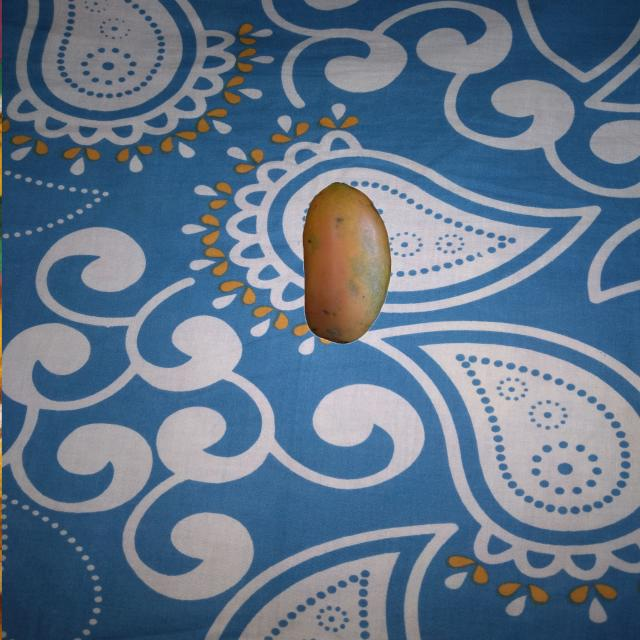Pepaya rippen: (284, 173, 398, 357)
